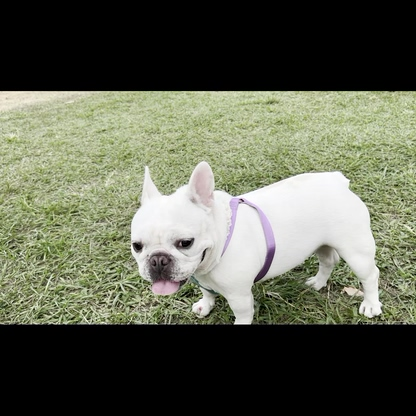bulldog: (126, 162, 384, 323)
